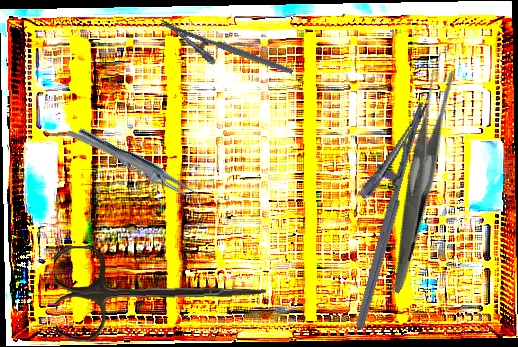Dressing Forceps: (327, 62, 509, 294)
Iris Scissors: (53, 239, 268, 342)
Needle Holder: (323, 92, 430, 331), (153, 18, 294, 93)
Pusher: (65, 128, 189, 190)
Tissue Forceps: (73, 124, 206, 207)
